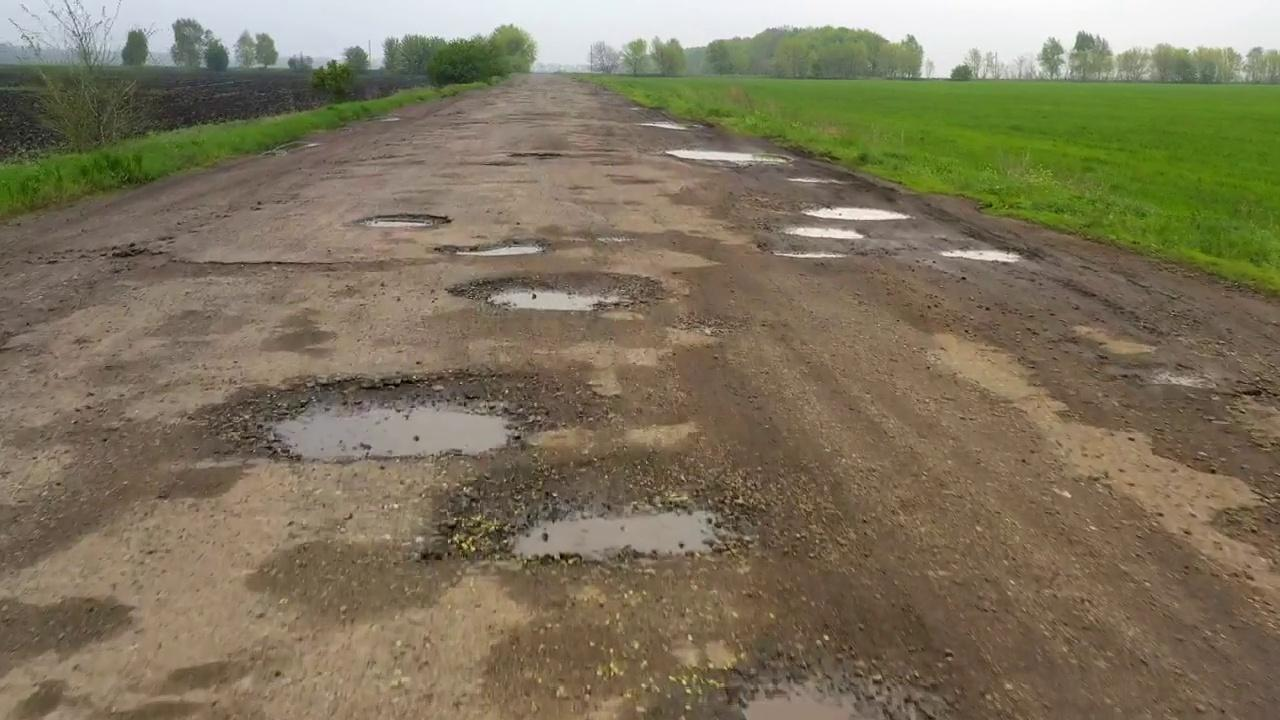bache: (432, 453, 749, 564), (208, 369, 551, 463), (448, 271, 664, 311), (437, 238, 546, 257), (357, 213, 450, 228), (804, 207, 910, 220), (785, 226, 863, 239), (939, 250, 1021, 262), (773, 251, 847, 258)
